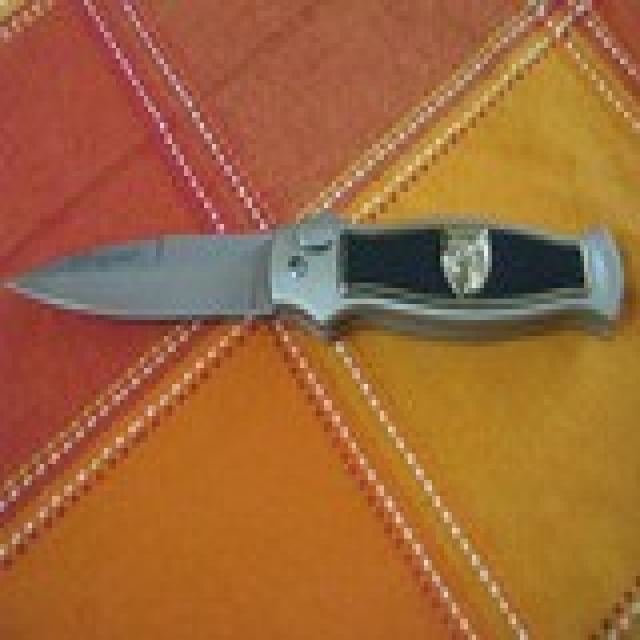Knife: (20, 218, 631, 360)
